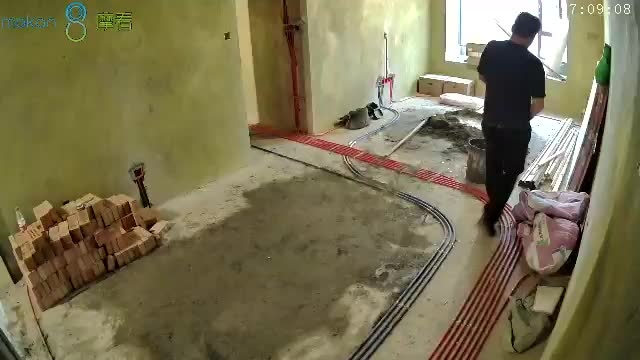people: (477, 12, 546, 238)
window: (458, 1, 566, 61)
